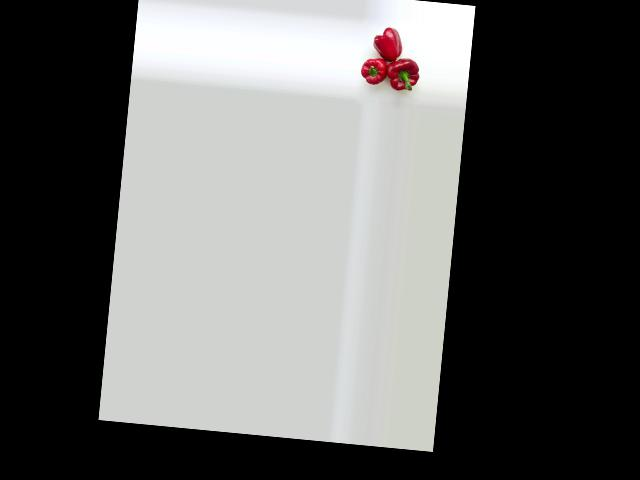bell_pepper: (366, 21, 407, 63)
